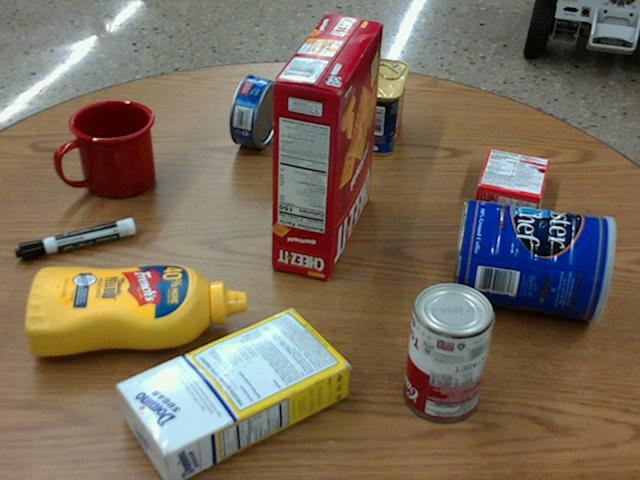cracker_box: (272, 12, 382, 277)
gelatin_box: (475, 147, 548, 214)
large_marker: (16, 217, 135, 260)
master_chef_can: (452, 196, 617, 320)
mug: (57, 101, 154, 199)
mustard_bottle: (26, 262, 246, 357)
potted_meat_can: (355, 57, 407, 155)
sugar_box: (113, 307, 348, 479)
tomato_soup_can: (405, 279, 495, 419)
tuna_fish_can: (228, 74, 281, 148)
